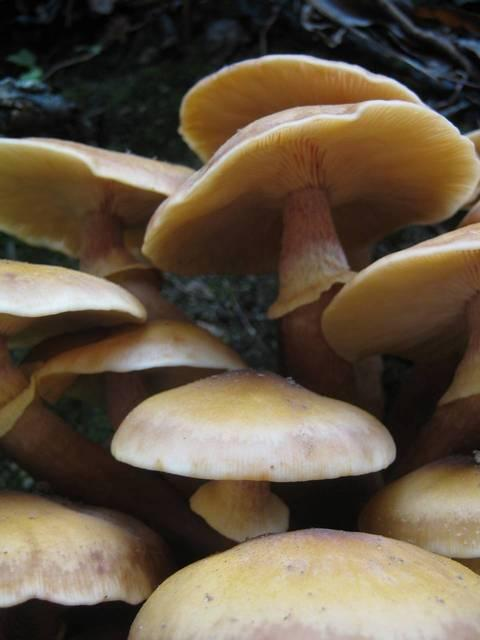edible_mushroom: (0, 52, 478, 636), (109, 366, 397, 542), (126, 526, 478, 638)
